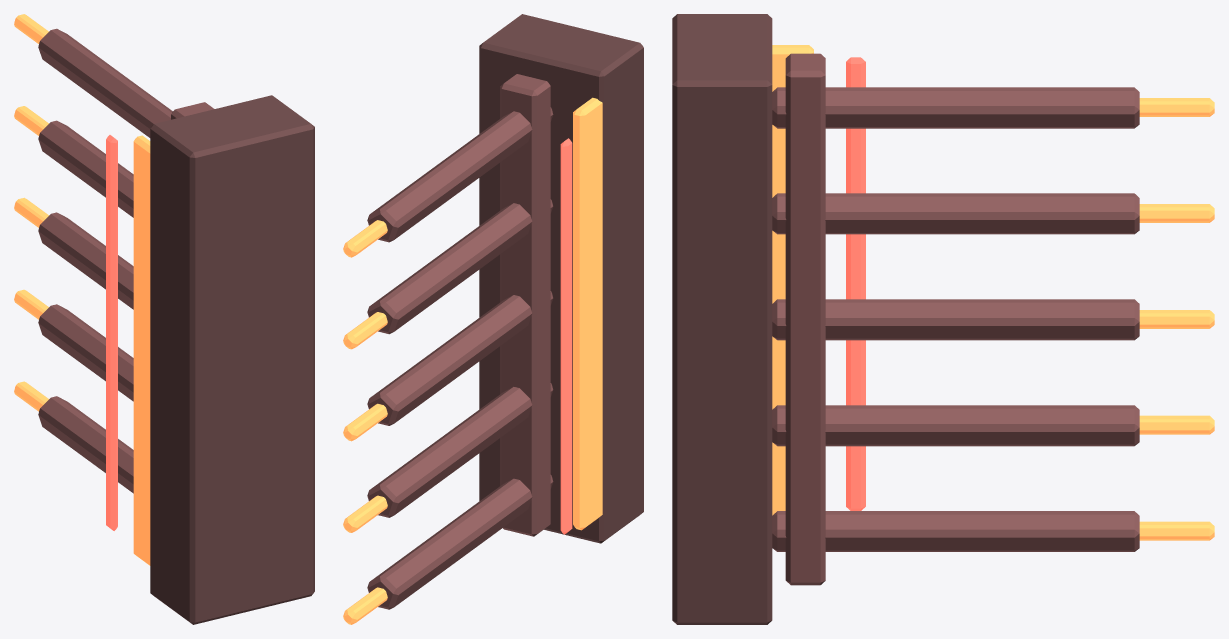
The model's file is hazard_spike_rack.glb.
3 renders of one model, left to right at view 1: azimuth 30°, elevation 25°; view 2: azimuth 150°, elevation 25°; view 3: azimuth 270°, elevation 25°, orthographic. The views are drawn at different scales.
Parts seen in each view (by area): view 1: HazardSpikeRack; view 2: HazardSpikeRack; view 3: HazardSpikeRack.
Part boxes in pixels (x1=…): HazardSpikeRack: x1=14, y1=14, x2=314, y2=624; HazardSpikeRack: x1=343, y1=14, x2=643, y2=624; HazardSpikeRack: x1=672, y1=14, x2=1214, y2=624.
Bounding box in the file's own units: 0.515 × 1.8 × 1.62.
